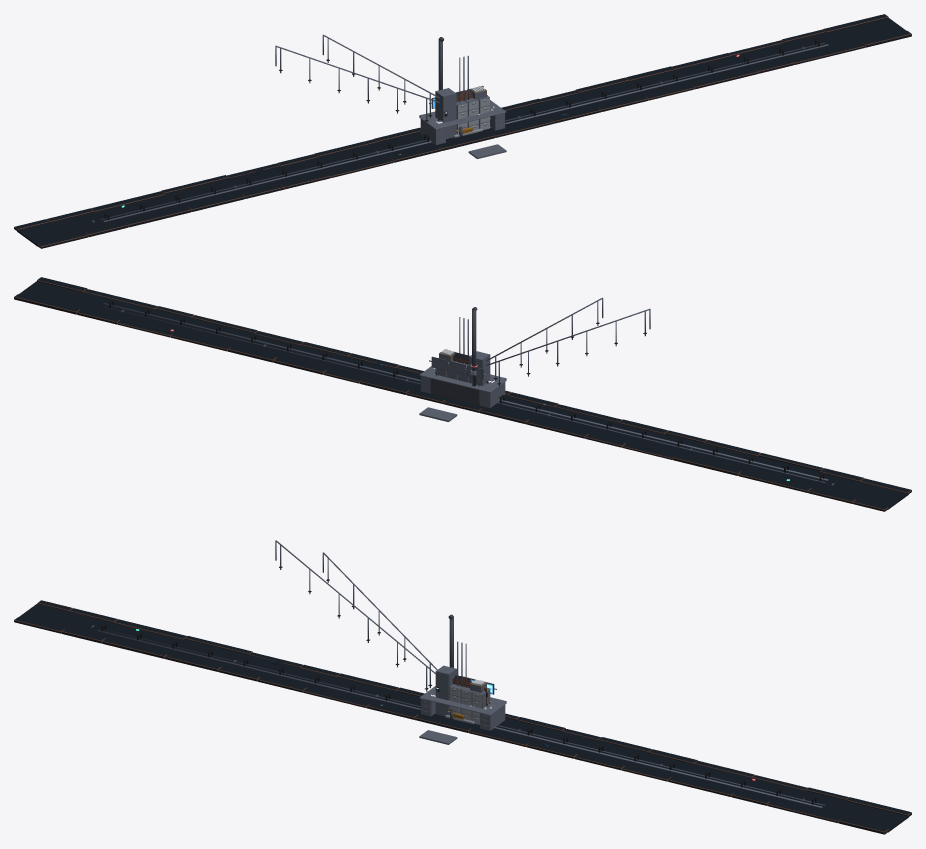
The model's file is room-detail-doki-props.glb.
3 renders of one model, top to bottom at view 1: azimuth 30°, elevation 25°; view 2: azimuth 150°, elevation 25°; view 3: azimuth 330°, elevation 25°, orthographic.
Visible parts, largest first — view 1: rd-w3b-water, rd-w3b-pipes, rd-tessen-cabinet, rd-tessen-desk, rd-w3b-handrail-a, rd-w3b-handrail-b; view 2: rd-w3b-water, rd-w3b-pipes, rd-tessen-desk, rd-tessen-cabinet, rd-w3b-handrail-a, rd-w3b-handrail-b; view 3: rd-w3b-water, rd-w3b-pipes, rd-tessen-cabinet, rd-tessen-desk, rd-w3b-handrail-a.
Part boxes in pixels (<box>): rd-w3b-water: <box>14,14,911,248</box>; rd-w3b-pipes: <box>91,38,828,222</box>; rd-tessen-cabinet: <box>435,86,489,138</box>; rd-tessen-desk: <box>419,86,506,144</box>; rd-w3b-handrail-a: <box>275,45,439,123</box>; rd-w3b-handrail-b: <box>322,34,439,118</box>; rd-w3b-water: <box>14,277,911,511</box>; rd-w3b-pipes: <box>100,299,834,485</box>; rd-tessen-desk: <box>419,356,506,407</box>; rd-tessen-cabinet: <box>436,349,490,401</box>; rd-w3b-handrail-a: <box>486,308,650,386</box>; rd-w3b-handrail-b: <box>486,297,603,381</box>; rd-w3b-water: <box>14,600,911,834</box>; rd-w3b-pipes: <box>91,623,825,807</box>; rd-tessen-cabinet: <box>435,665,490,724</box>; rd-tessen-desk: <box>419,676,506,730</box>; rd-w3b-handrail-a: <box>275,540,435,691</box>.
Size of the model in its own units: 36.8 by 5.87 by 4.24.
Materials: 1 (1 with a texture image).
